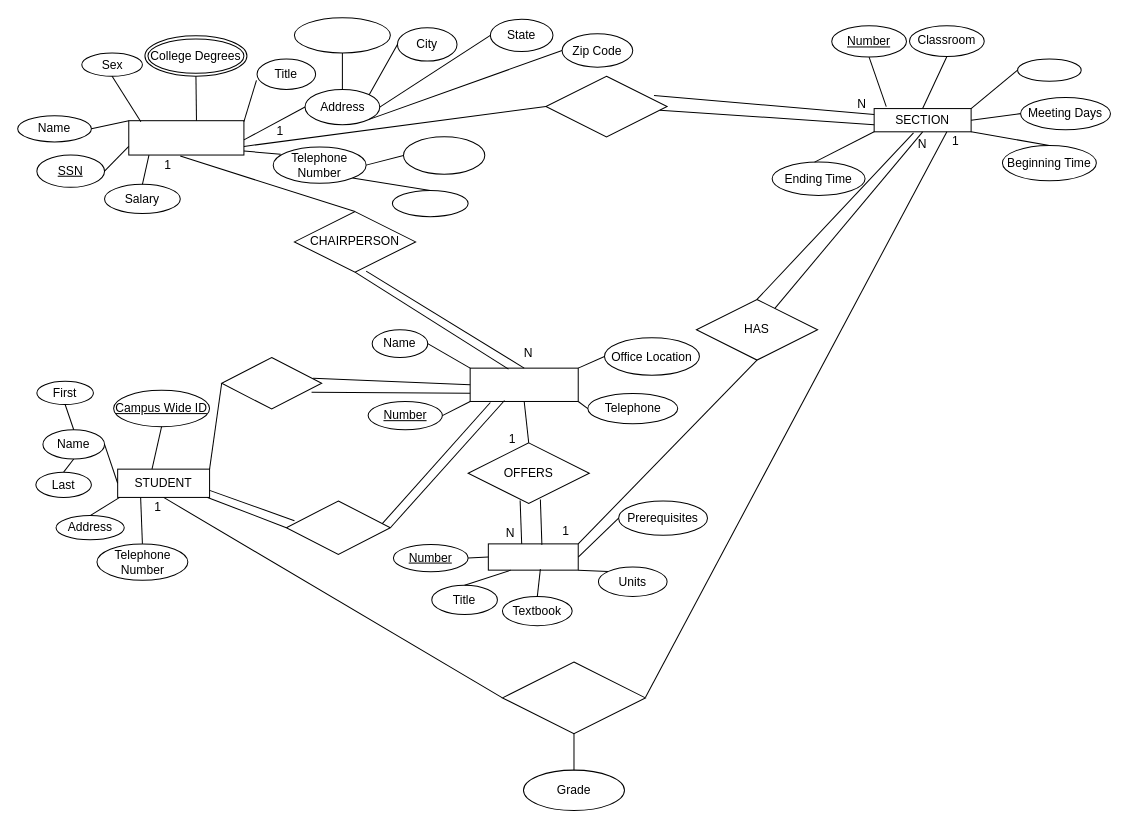
This 1128x828 diagram has some shape labels left out. Each missing label, with the centre of its shape:
7 Digit Number: (443,155)
Area Code: (429,203)
COURSE: (532,556)
DEPARTMENT: (523,384)
ENROLLMENT RECORDS: (573,697)
MAJOR: (271,383)
MINOR: (337,527)
PROFESSOR: (186,137)
Seats: (1049,69)
Street Address: (341,35)
TAUGHT: (606,106)
